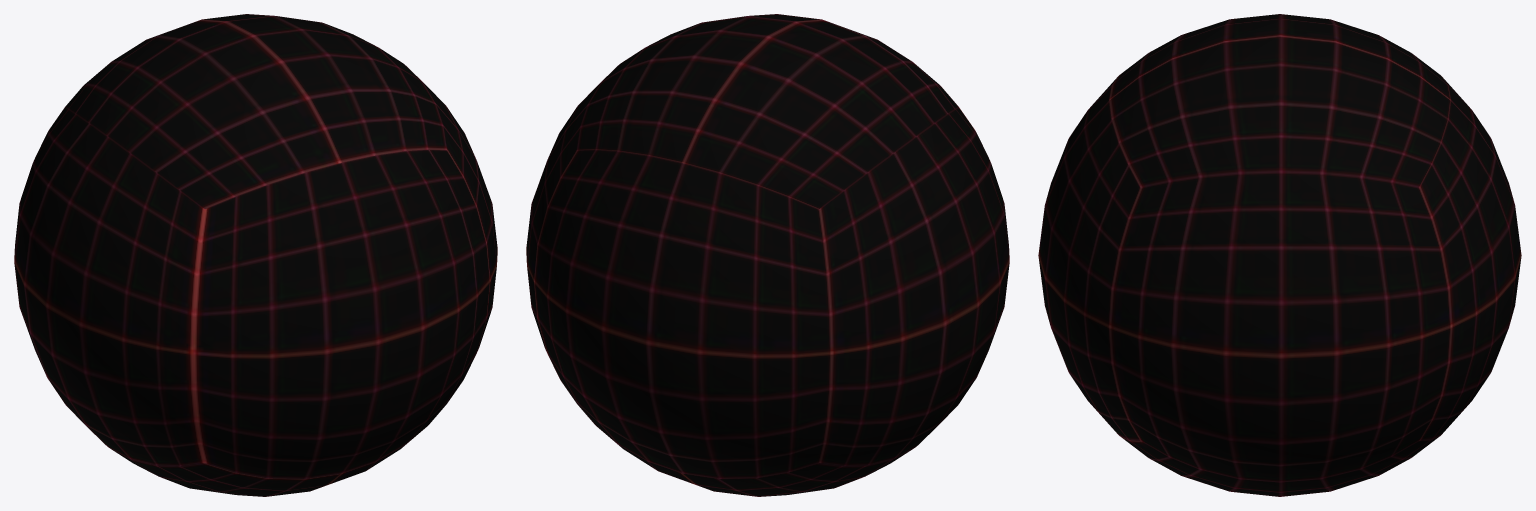
3 views of the same model, side by side, from view 1: azimuth 30°, elevation 25°; view 2: azimuth 150°, elevation 25°; view 3: azimuth 270°, elevation 25° (orthographic).
Parts seen in each view (by area): view 1: SM_Placeholder_Sphere_LOD0; view 2: SM_Placeholder_Sphere_LOD0; view 3: SM_Placeholder_Sphere_LOD0.
Part boxes in pixels (<box>): SM_Placeholder_Sphere_LOD0: <box>14,14,497,496</box>; SM_Placeholder_Sphere_LOD0: <box>526,14,1009,496</box>; SM_Placeholder_Sphere_LOD0: <box>1038,14,1521,496</box>.
Bounding box in the file's own units: 0.9986 × 0.9986 × 0.9986.
Materials: 1 (1 with a texture image).
